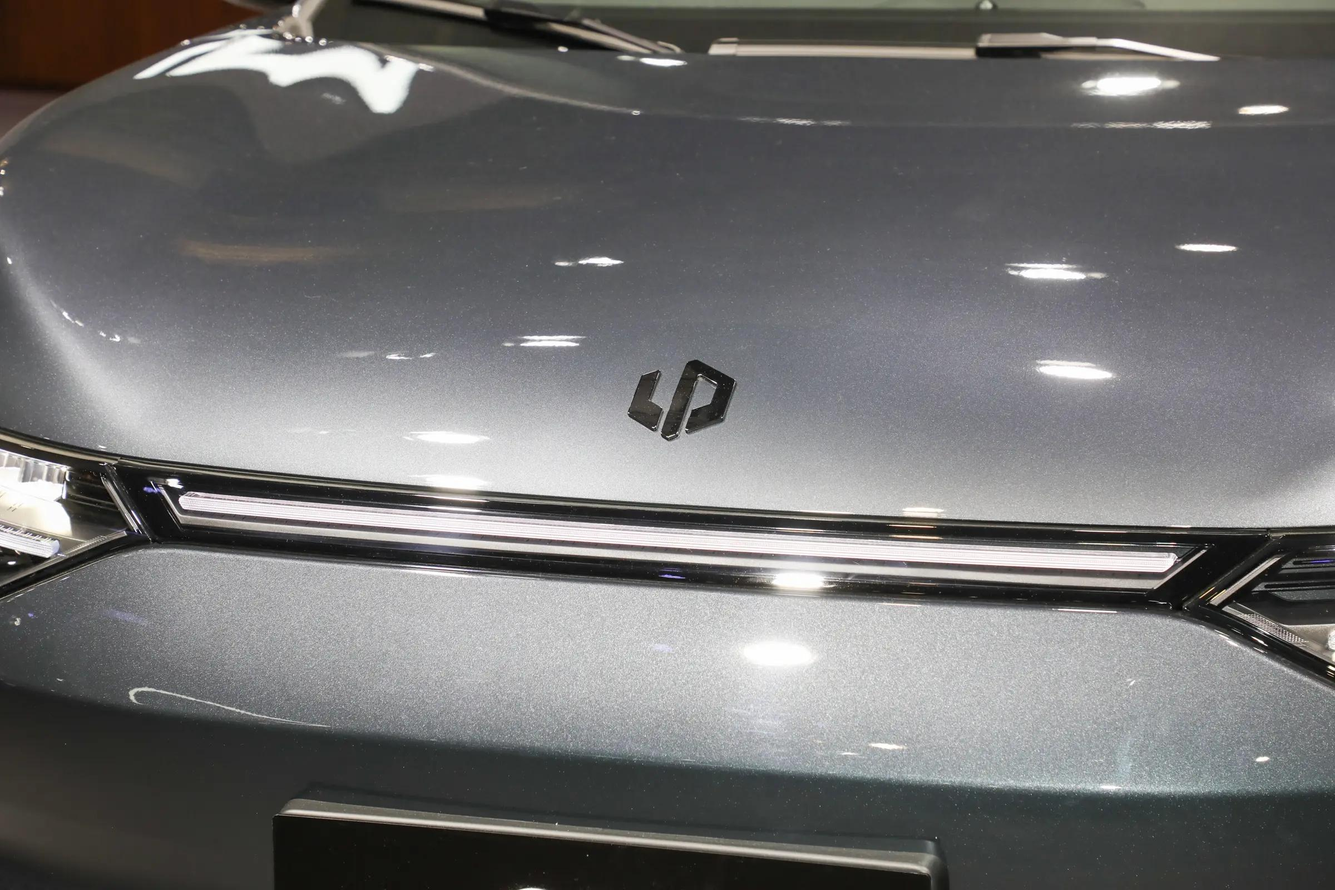LEAPMOTOR: (625, 358, 737, 443)
